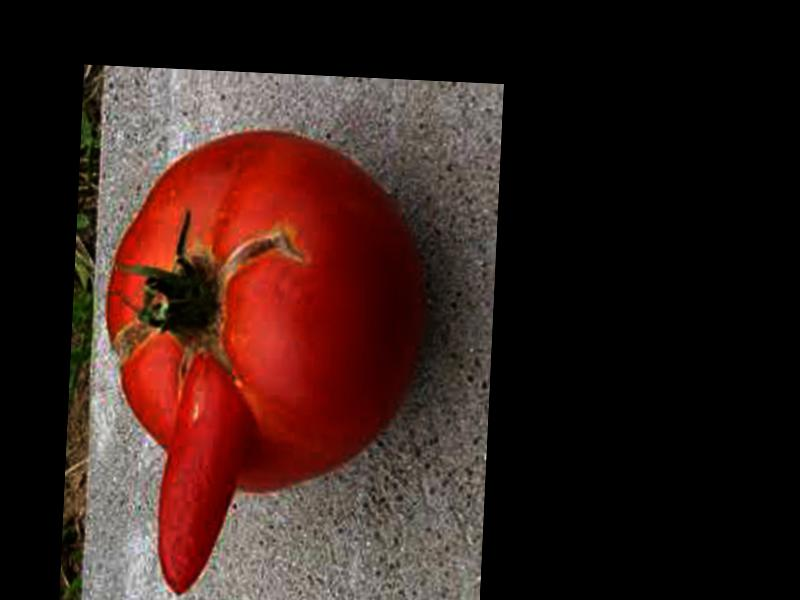Tomato: (97, 120, 422, 499)
